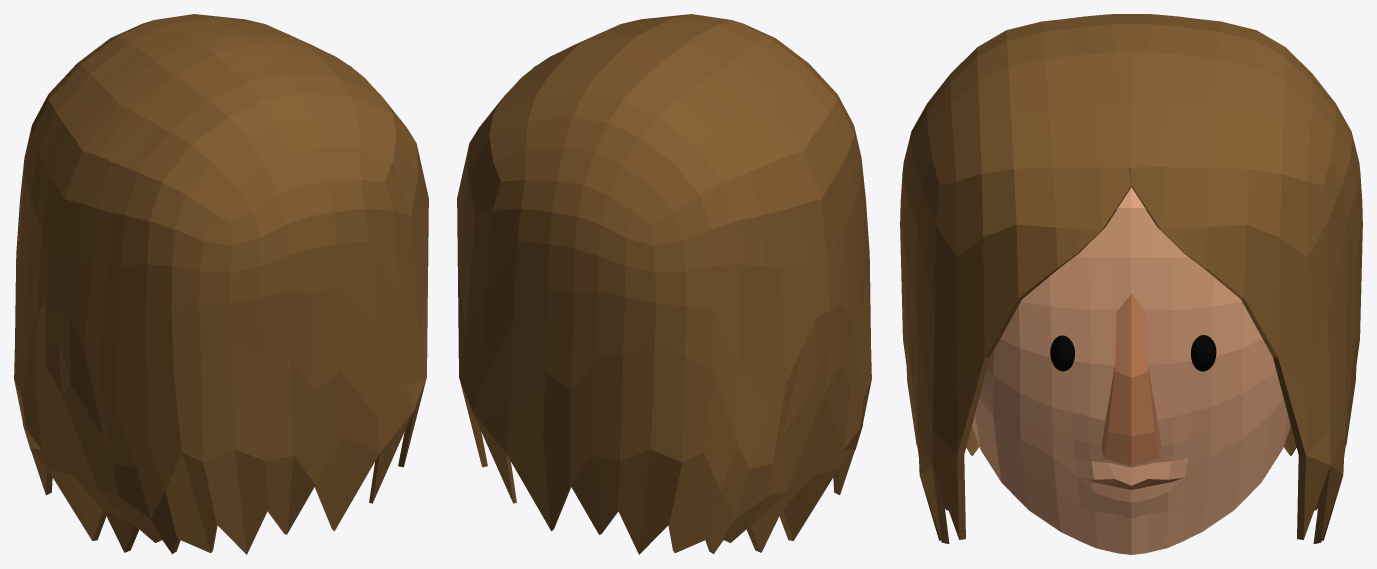
The model's file is HeadPauline.glb.
3 views of the same model, side by side, from view 1: azimuth 30°, elevation 25°; view 2: azimuth 150°, elevation 25°; view 3: azimuth 270°, elevation 25° (orthographic). The views are drawn at different scales.
Visible parts, largest first — view 1: Hair Pauline; view 2: Hair Pauline; view 3: Hair Pauline, Face1, Eyes.
Part boxes in pixels (x1,y1,x2,y2): Hair Pauline: (14,14,428,554); Hair Pauline: (457,14,871,554); Hair Pauline: (900,14,1362,543); Face1: (972,187,1290,554); Eyes: (1050,335,1216,371).
Bounding box in the file's own units: 1.81 × 2.28 × 1.81.
